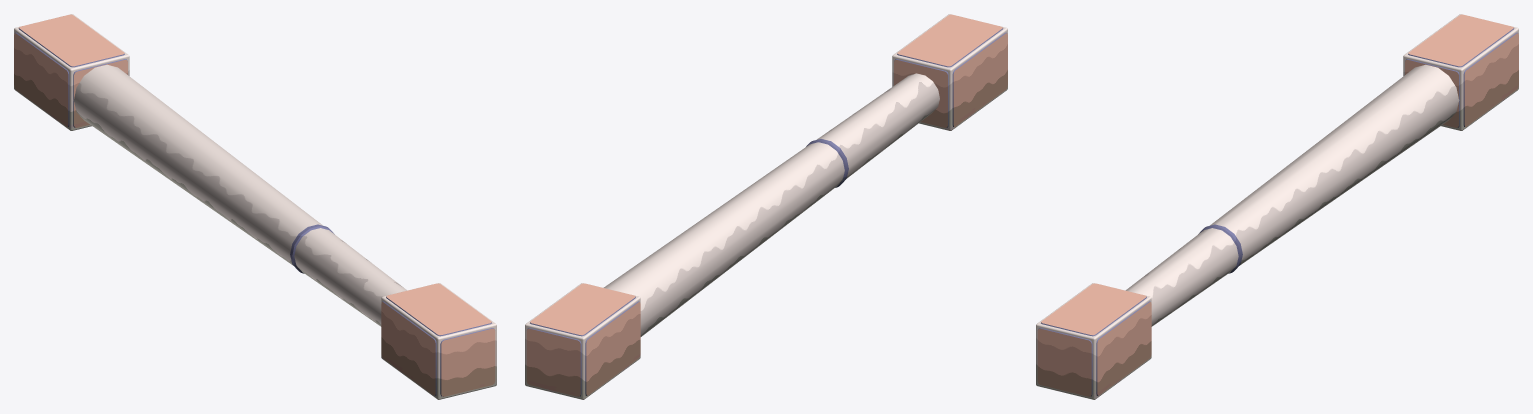
Rendered from R4C_ROD_LONG.glb.
The picture shows the model from 3 angles, left to right: view 1: azimuth 30°, elevation 25°; view 2: azimuth 150°, elevation 25°; view 3: azimuth 330°, elevation 25°; orthographic projection.
Visible parts, largest first — view 1: R4C_ROD_LONG; view 2: R4C_ROD_LONG; view 3: R4C_ROD_LONG.
Part boxes in pixels (box(x1,y1,x2,y2)): R4C_ROD_LONG: box(14, 14, 496, 399); R4C_ROD_LONG: box(525, 14, 1007, 399); R4C_ROD_LONG: box(1036, 14, 1518, 399).
Bounding box in the file's own units: 0.226 × 0.226 × 2.72.
Materials: 3 (3 with a texture image).
